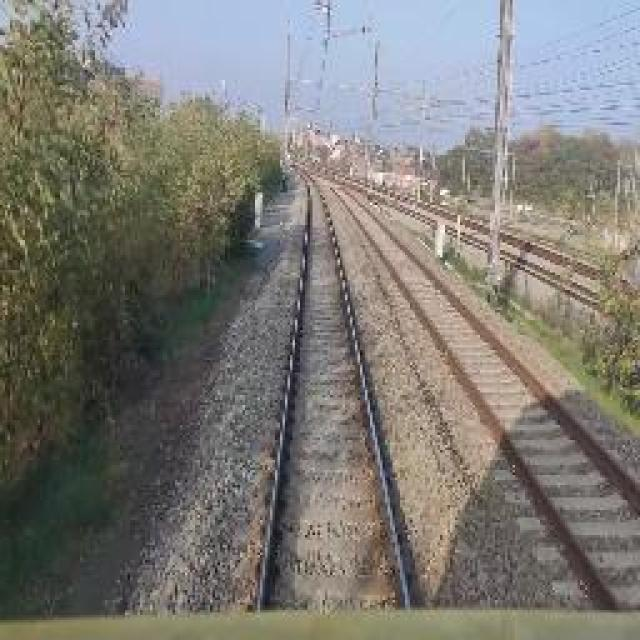rail: (316, 175, 640, 618), (237, 163, 448, 611)
